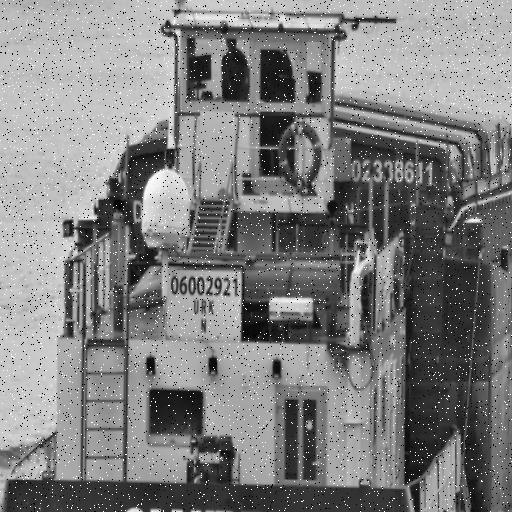tugboat: (1, 1, 484, 512)
